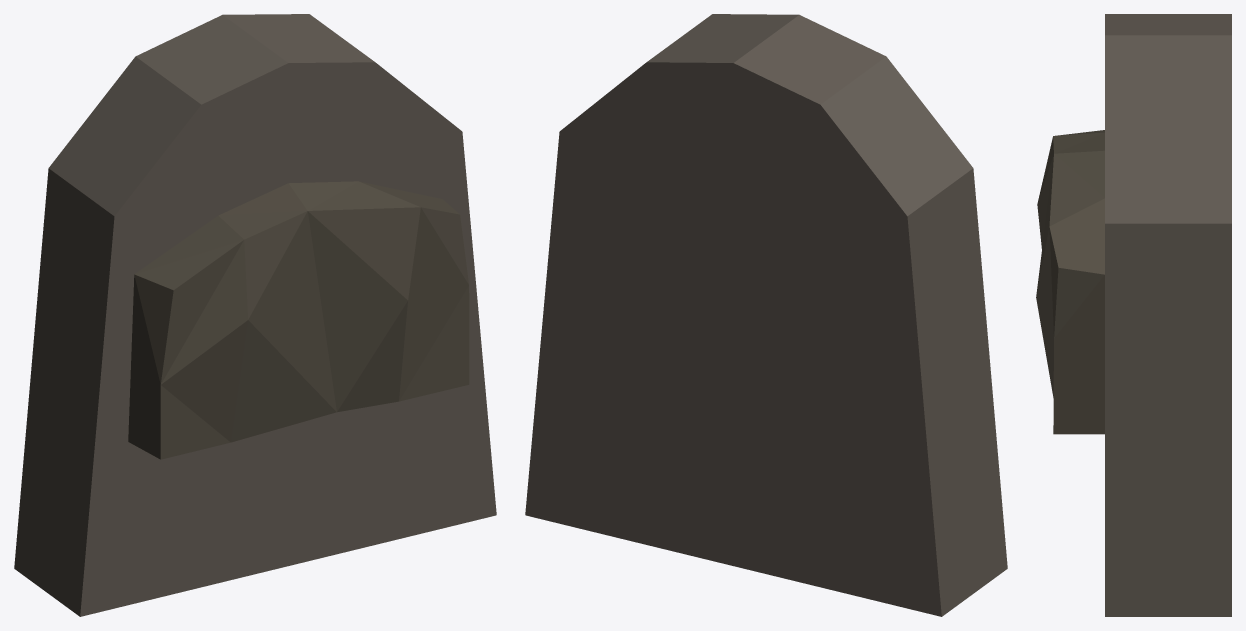
File: tomb_stone_02.fbx
3 renders of one model, left to right at view 1: azimuth 30°, elevation 25°; view 2: azimuth 150°, elevation 25°; view 3: azimuth 270°, elevation 25°, orthographic. The views are drawn at different scales.
Parts seen in each view (by area): view 1: tomb_stone_02; view 2: tomb_stone_02; view 3: tomb_stone_02.
Part boxes in pixels (x1,y1,x2,y2): tomb_stone_02: (14, 14, 496, 616); tomb_stone_02: (525, 14, 1007, 616); tomb_stone_02: (1036, 14, 1231, 616).
Bounding box in the file's own units: 1.84 × 2.13 × 0.7802.
